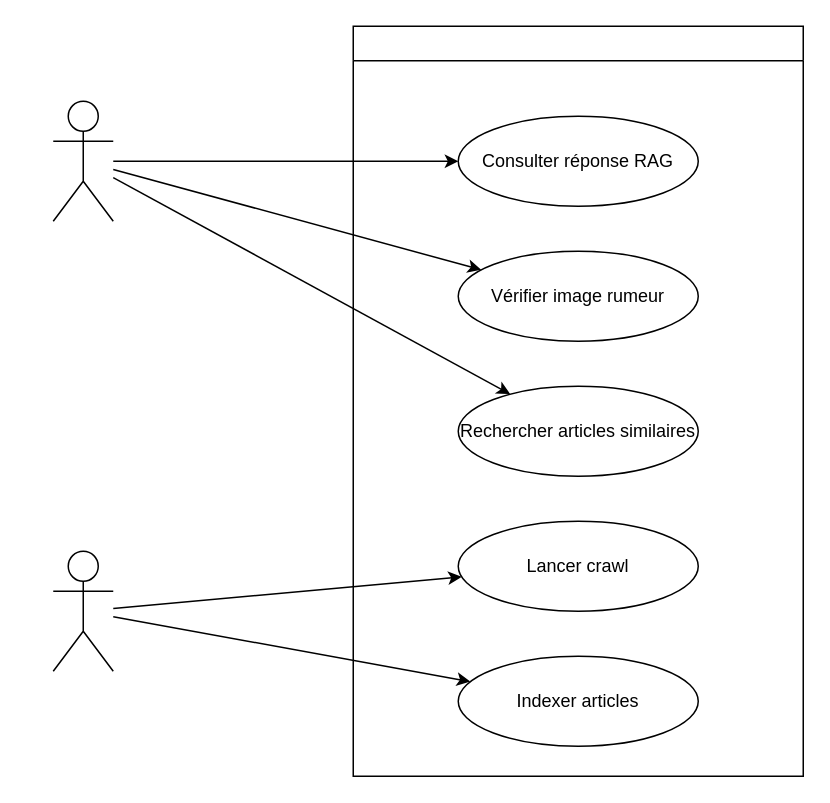
The diagram is 830 pixels wide and 803 high, and some of its shapes have lost their labels. The box of each missing label's shape, as (x1, y1, x2, y2) in pixels:
Administrateur: (52, 550, 113, 671)
RDC News Intelligence: (352, 25, 803, 776)
Utilisateur: (52, 100, 113, 221)
